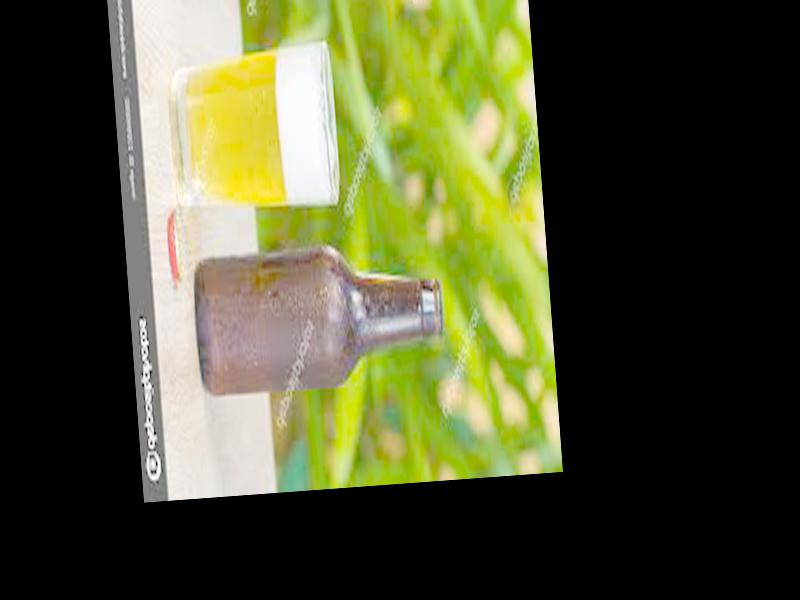Beer: (189, 241, 445, 390)
